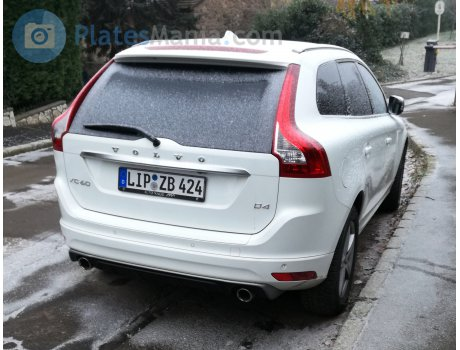License Plates: (130, 173, 200, 195)
